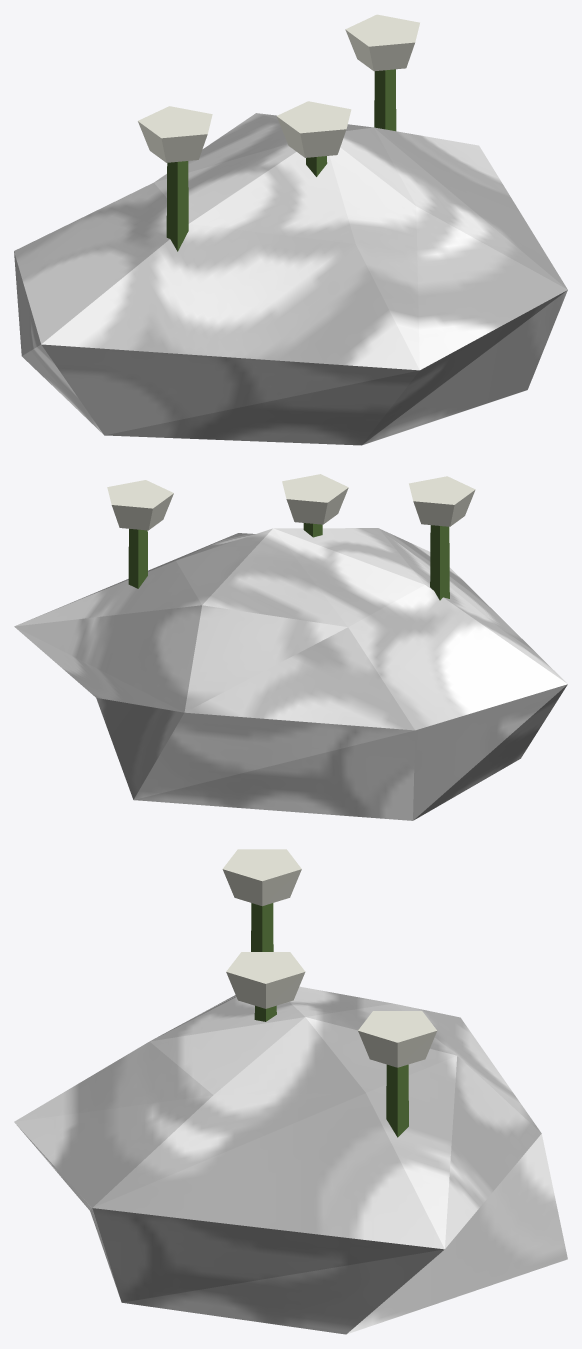
The model's file is healroot_1.obj.
3 views of the same model, one above another, from view 1: azimuth 30°, elevation 25°; view 2: azimuth 150°, elevation 25°; view 3: azimuth 270°, elevation 25° (orthographic). The views are drawn at different scales.
Parts seen in each view (by area): view 1: healroot_1; view 2: healroot_1; view 3: healroot_1.
Boxes of the visible parts, <box> form: healroot_1: <box>14,14,567,445</box>; healroot_1: <box>14,474,567,820</box>; healroot_1: <box>14,849,567,1334</box>.
Size of the model in its own units: 0.6065 by 0.3134 by 0.5306.
